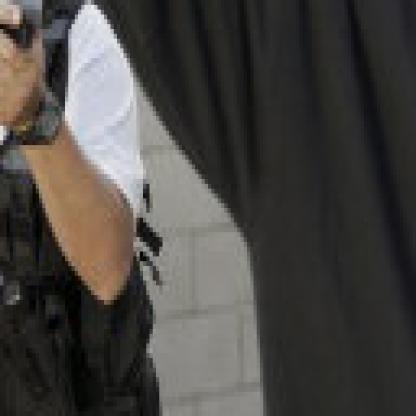gun: (0, 0, 59, 68)
